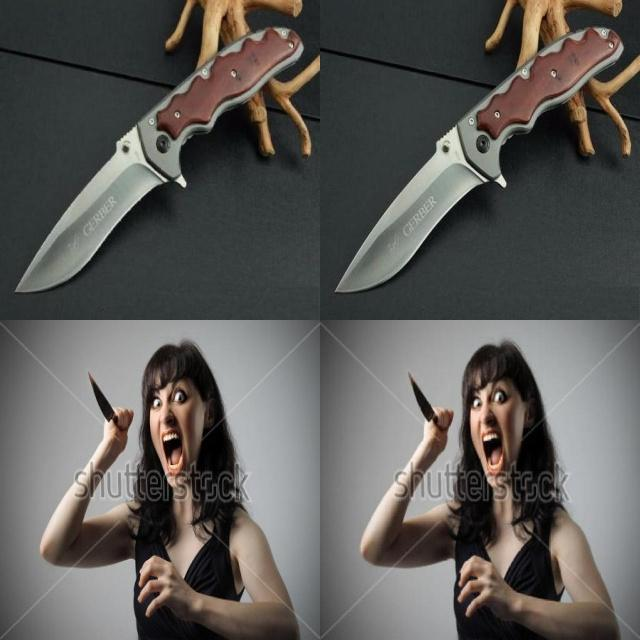-: (329, 105, 508, 300), (9, 106, 188, 300), (83, 365, 134, 433), (403, 366, 454, 434)
